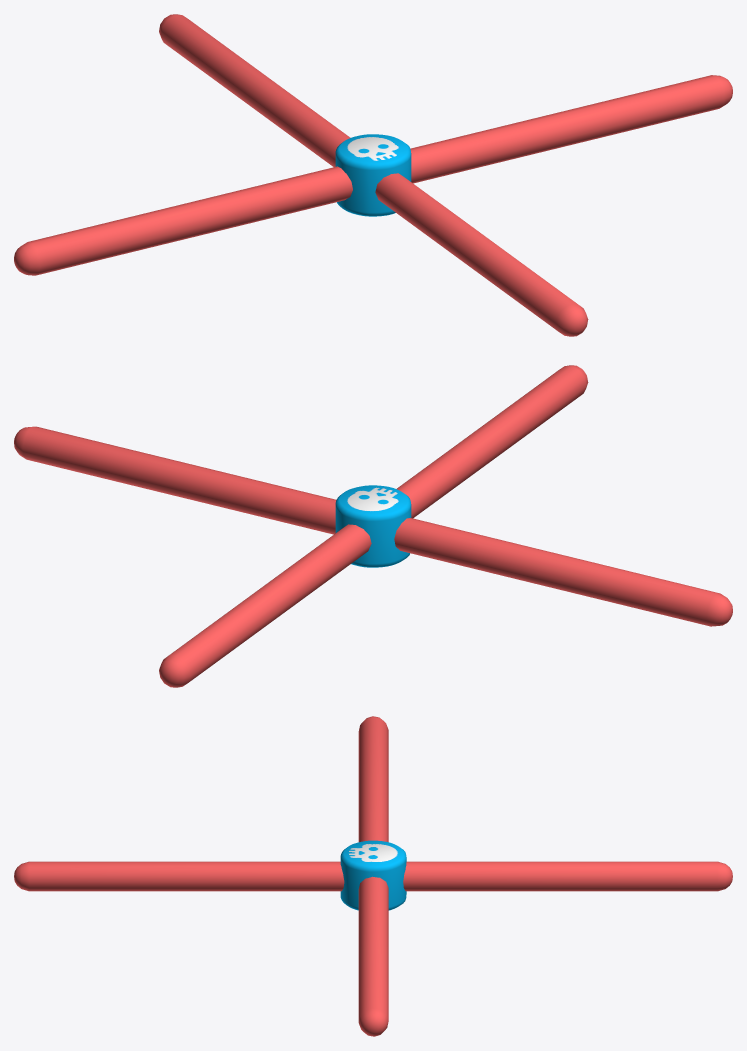
Rendered from stick_4_2.FBX.
3 renders of one model, top to bottom at view 1: azimuth 30°, elevation 25°; view 2: azimuth 150°, elevation 25°; view 3: azimuth 270°, elevation 25°, orthographic. The views are drawn at different scales.
Visible parts, largest first — view 1: stick_4_2; view 2: stick_4_2; view 3: stick_4_2.
Part boxes in pixels (x1,y1,x2,y2): stick_4_2: (14,14,732,336); stick_4_2: (14,365,732,687); stick_4_2: (14,716,732,1036).
Size of the model in its own units: 16.22 by 1.16 by 16.22.
Materials: 1 (1 with a texture image).
